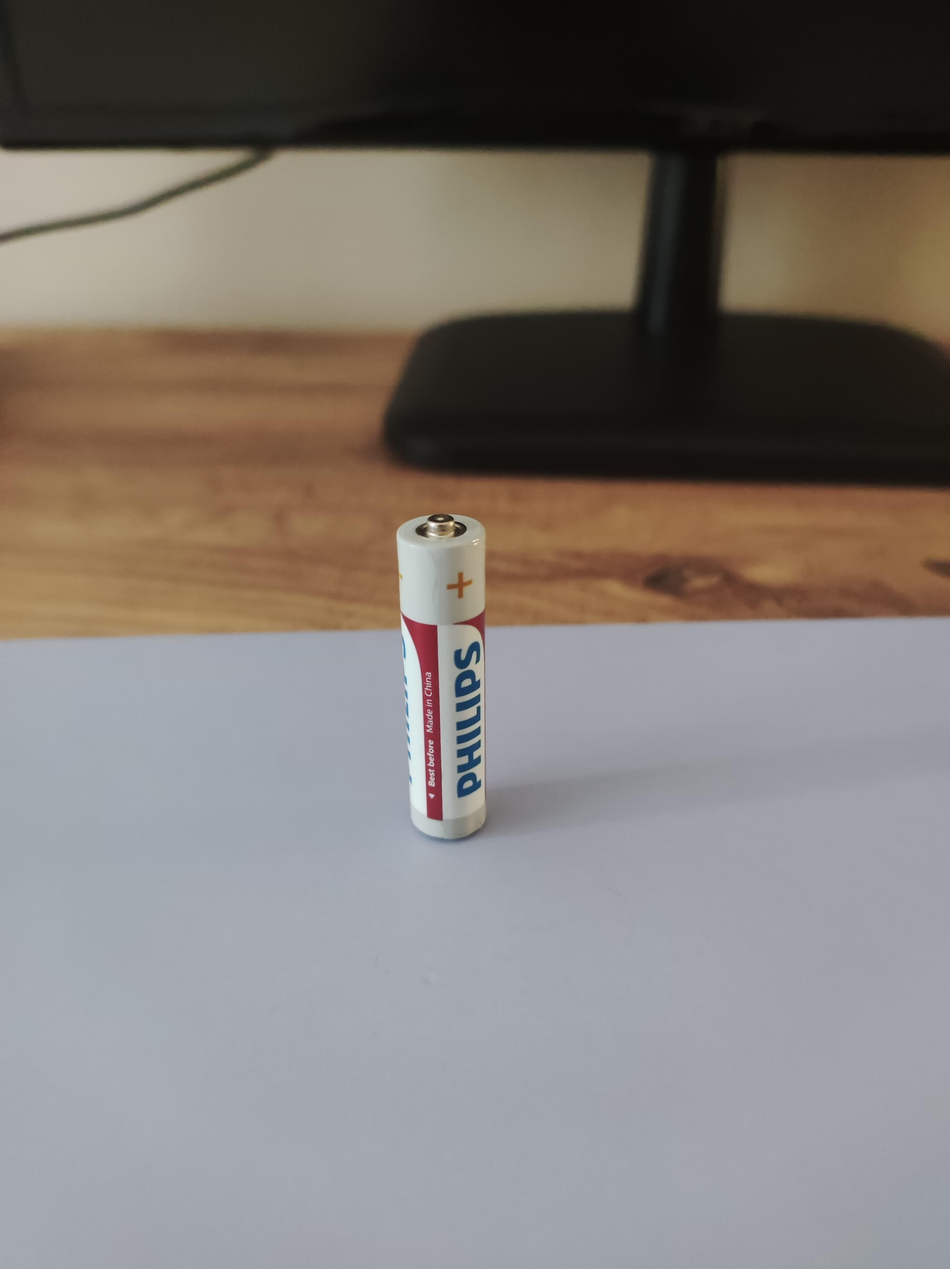AAA: (395, 511, 488, 840)
